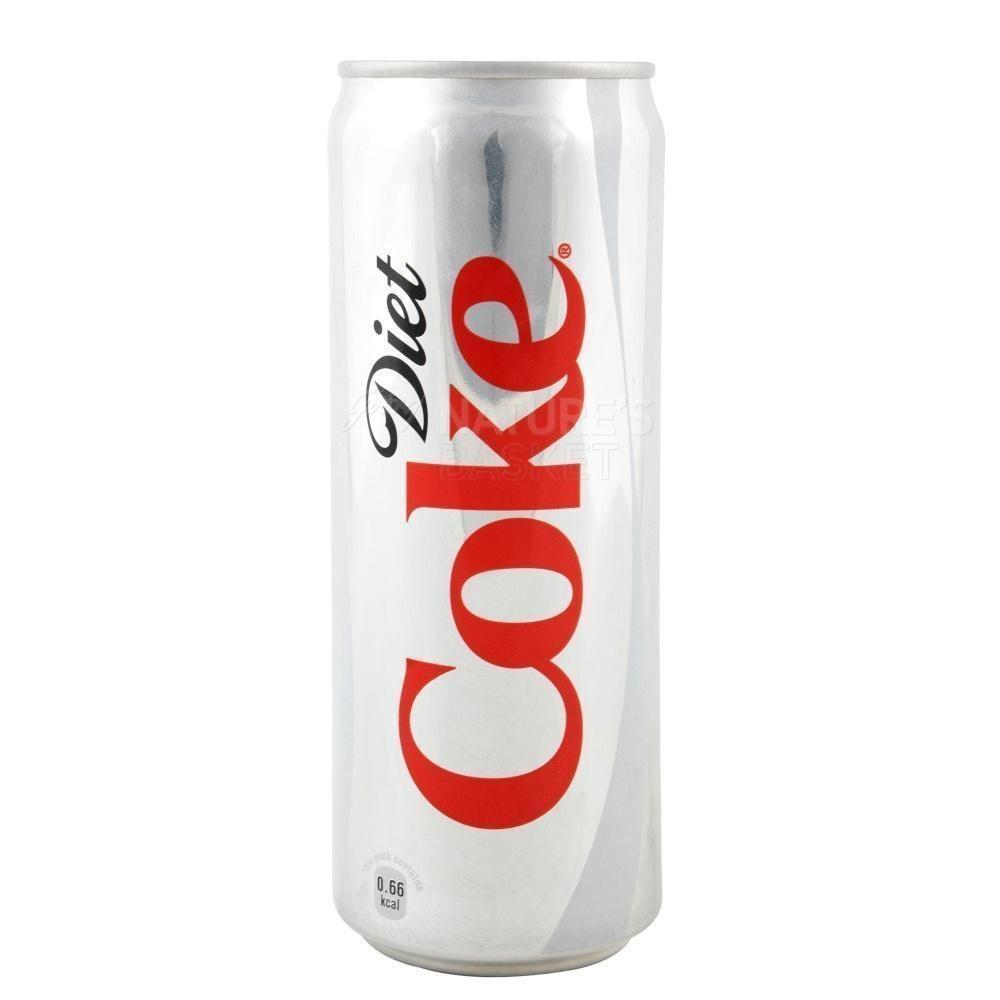tin can: (324, 50, 667, 981)
